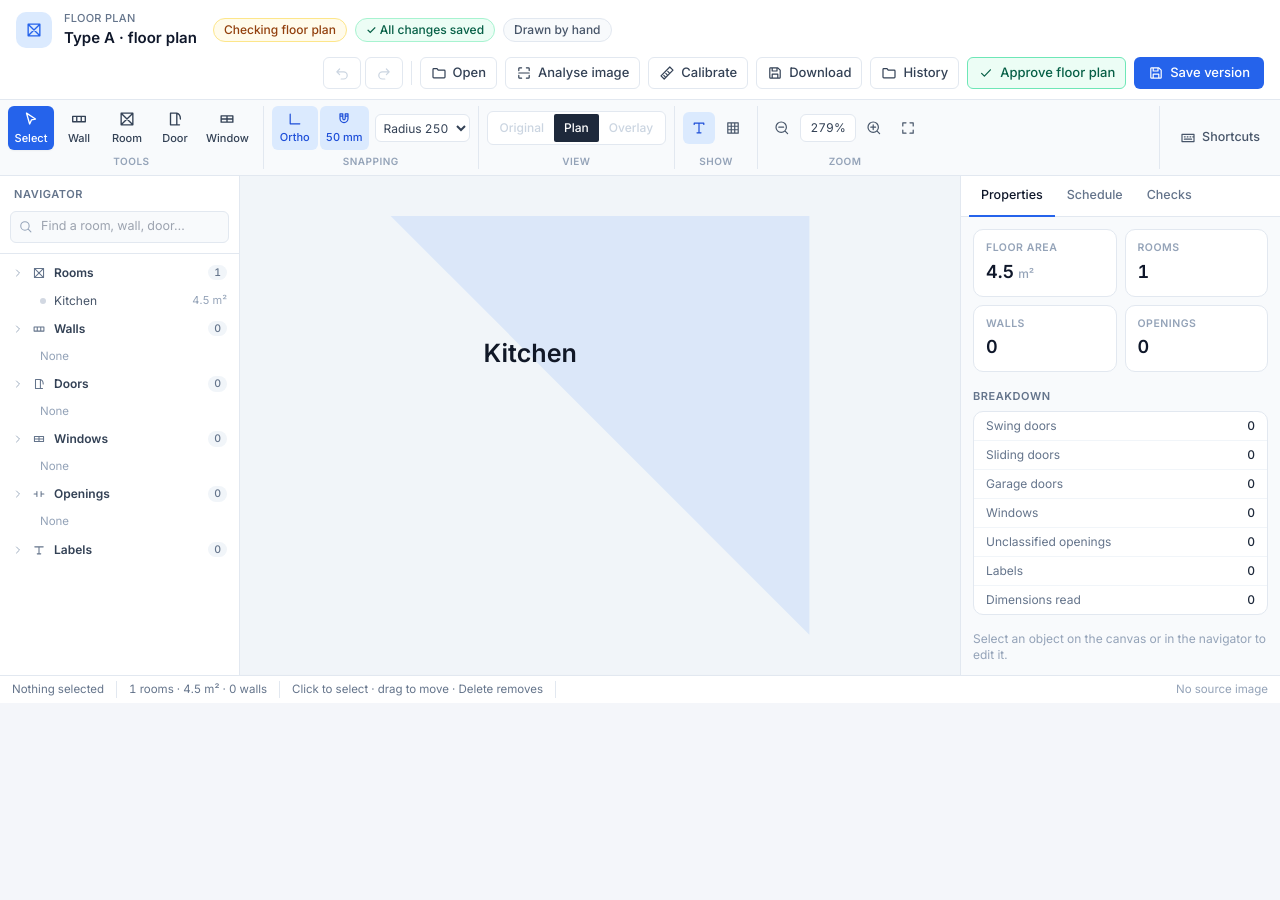
Scenario: HouseFloorPlanEditor › restores without saving when the person lets the changes go
What coordinates should you click on to do the following:
click the button "History"
I would click on:
 (915, 73)
Its box is [870, 57, 959, 89].
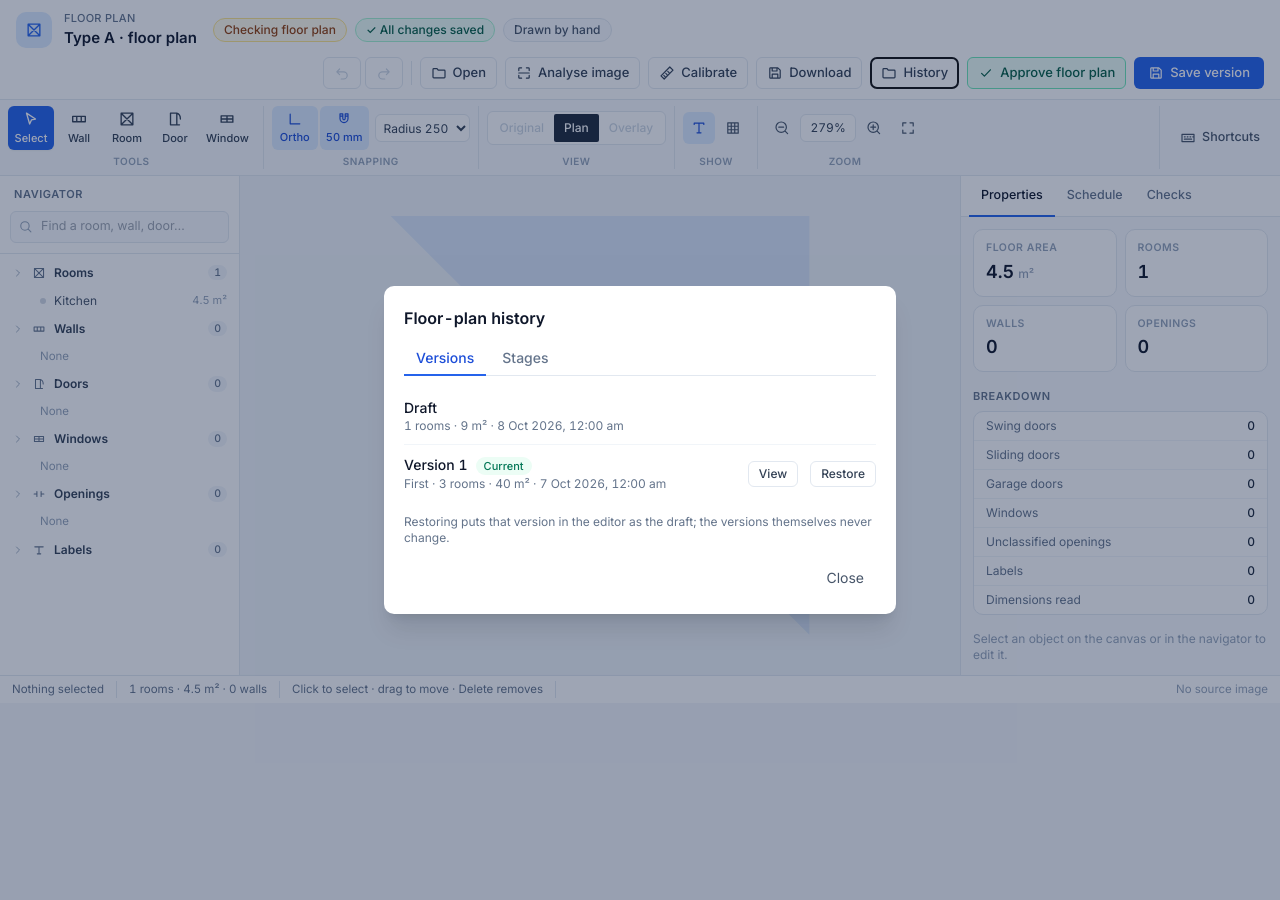
Now the text "Version 1" is shown, box [404, 456, 468, 473]
Now the text "Current" is shown, box [476, 457, 532, 475]
Now the number of buttons "Restore" is 1
What coordinates should you click on to do the following:
click the button "Restore"
I would click on:
 (843, 474)
Its box is [810, 460, 876, 486].
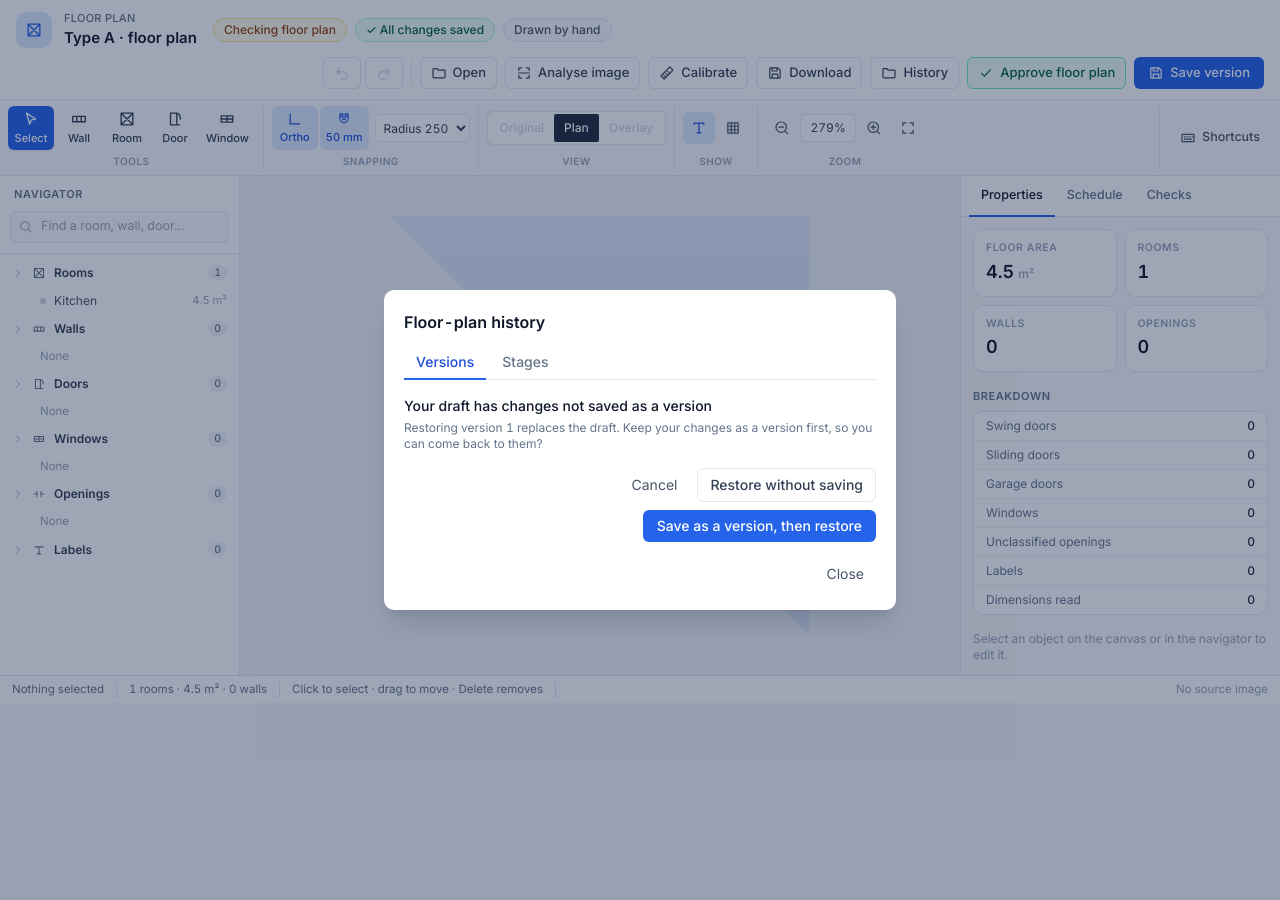
What coordinates should you click on to do the following:
click the button "Restore without saving"
I would click on:
 (787, 485)
Its box is [698, 468, 876, 502].
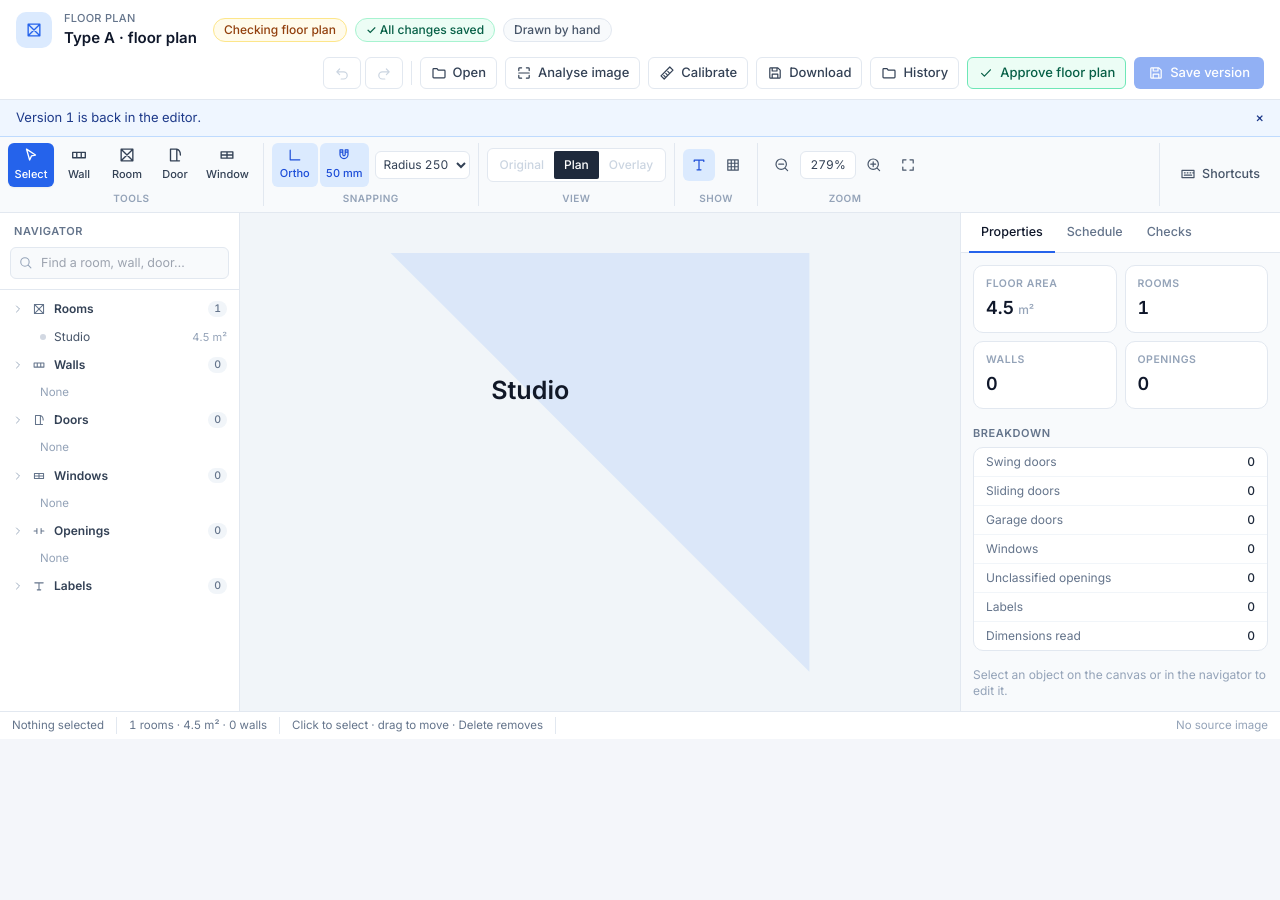
Now the message shows "Version 1 is back in the editor.", box [16, 109, 201, 125]
